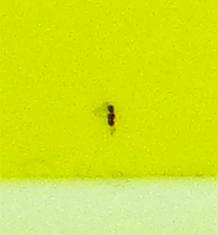Hymenoptera: (100, 100, 118, 135)
